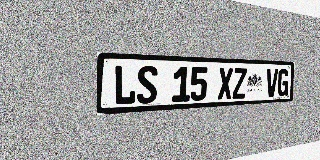1: (172, 66, 191, 102)
5: (190, 67, 208, 101)
G: (277, 69, 289, 96)
L: (114, 65, 136, 105)
S: (137, 65, 158, 104)
V: (266, 69, 278, 97)
X: (218, 67, 233, 100)
Z: (232, 68, 247, 99)
